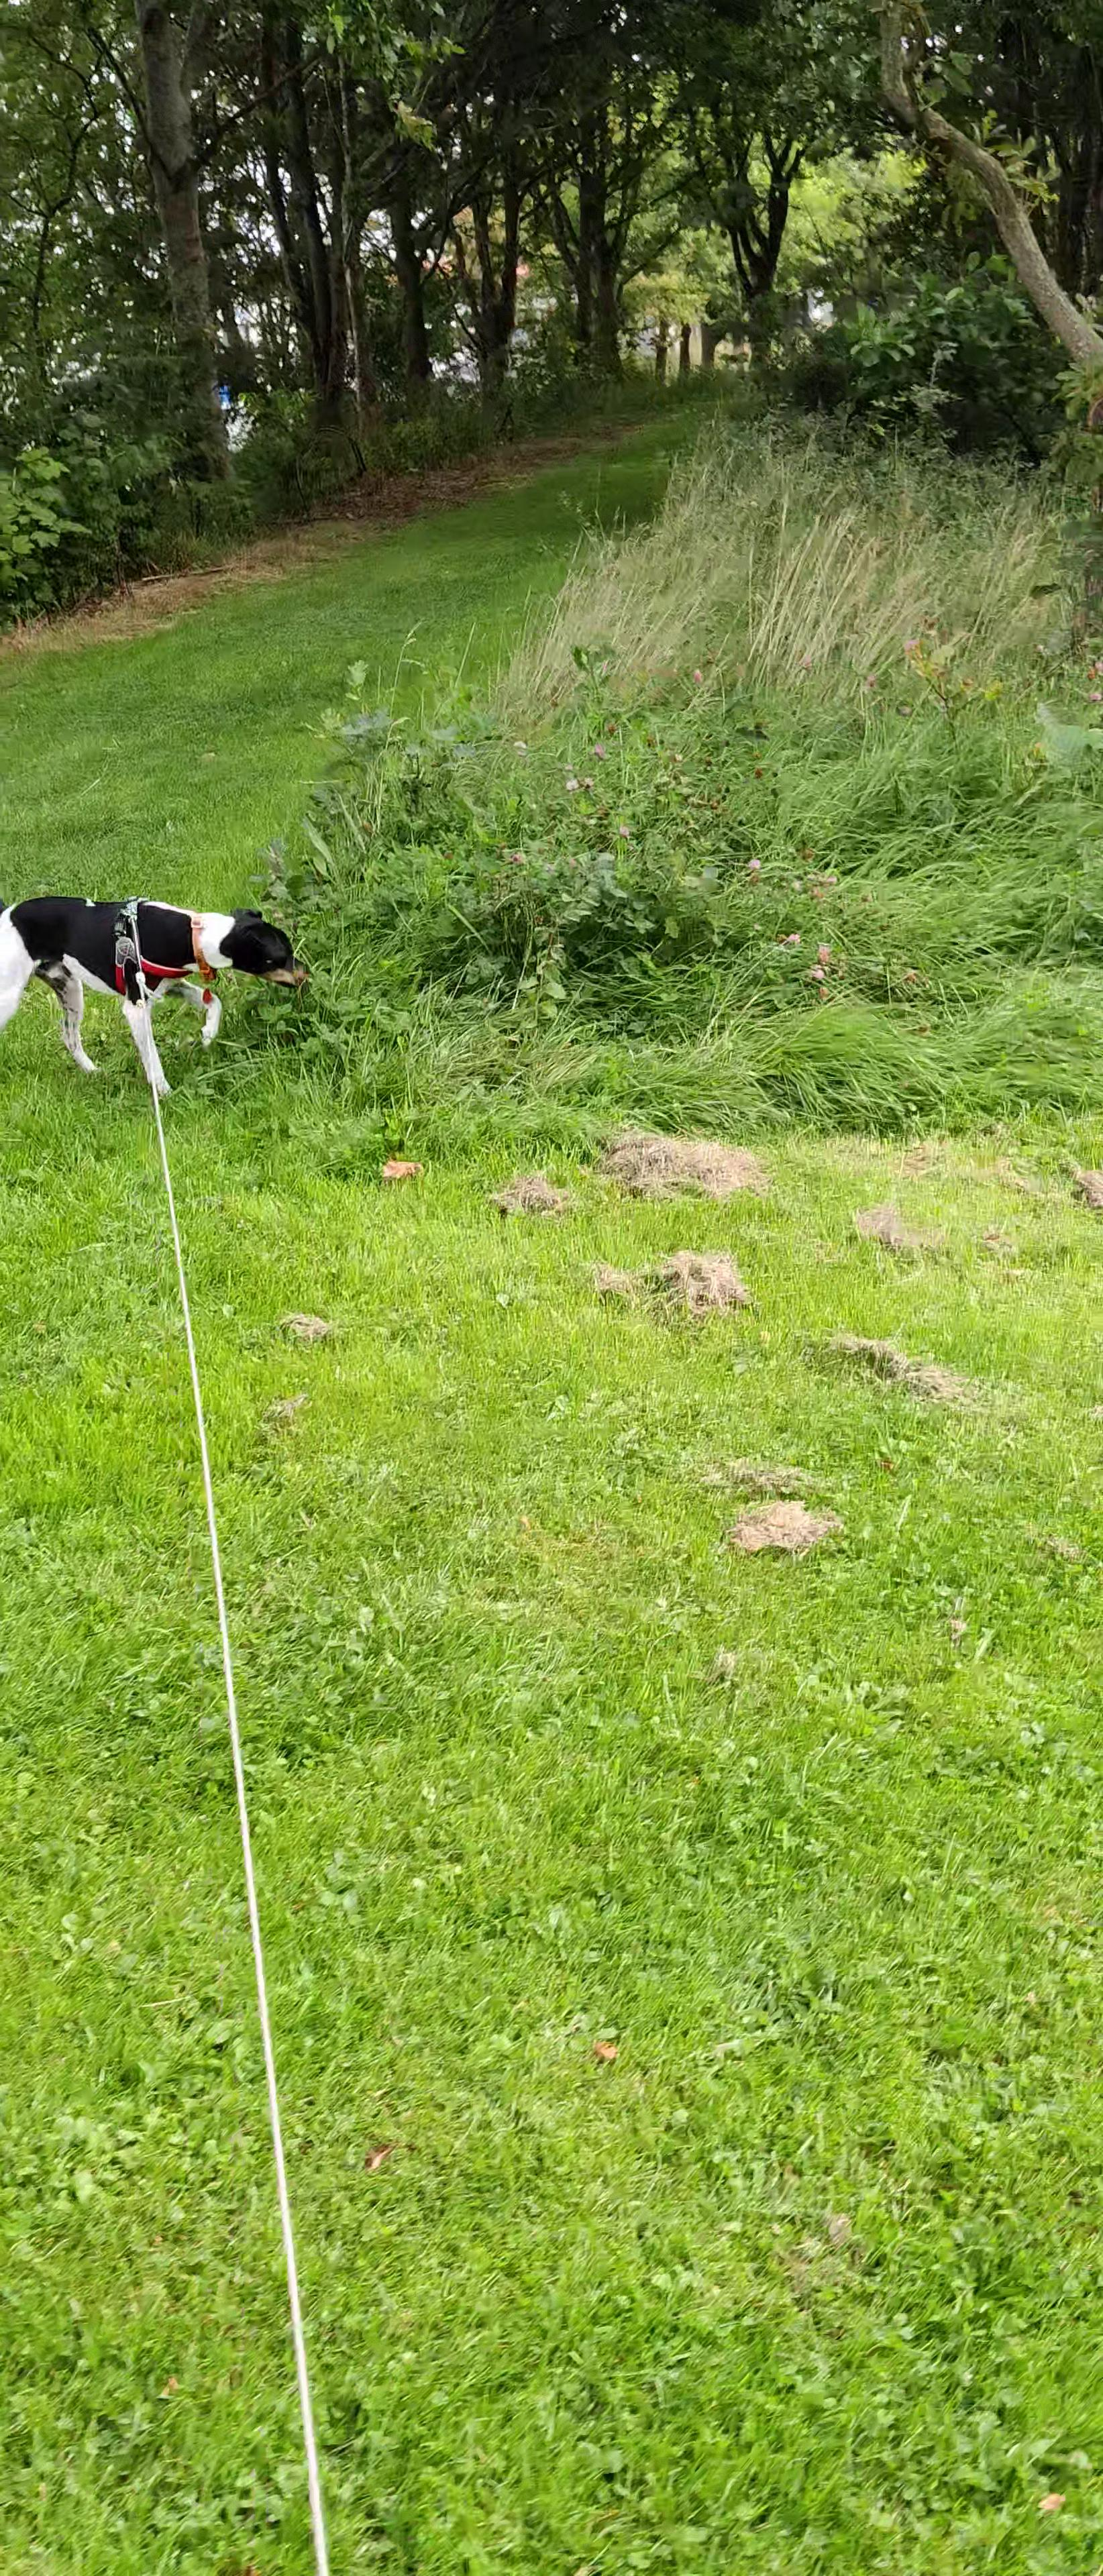Dog: (0, 853, 321, 1102)
